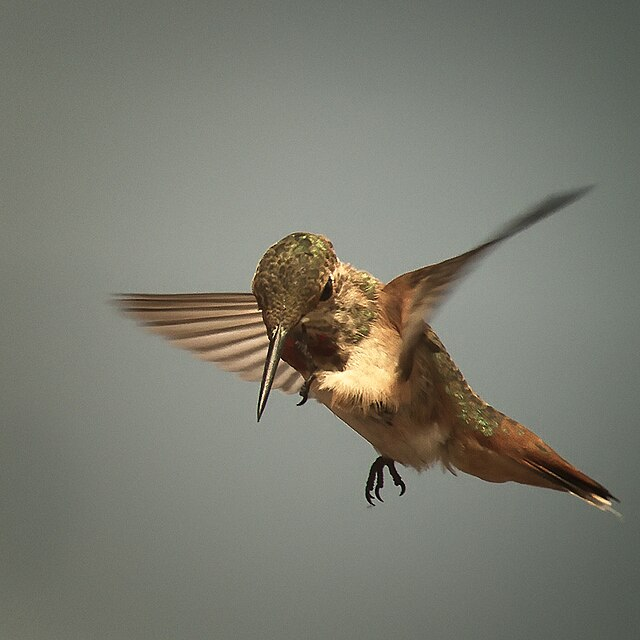selasphorus sasin: (105, 232, 620, 516)
